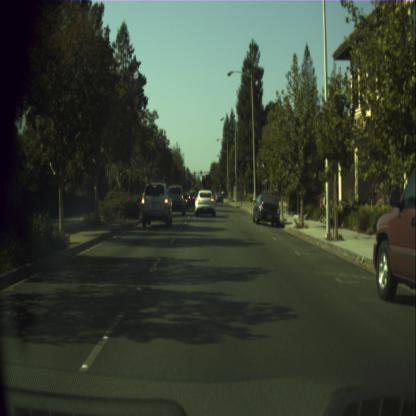Green: (219, 181, 221, 187), (200, 170, 201, 176)
Red: (188, 170, 190, 176)
